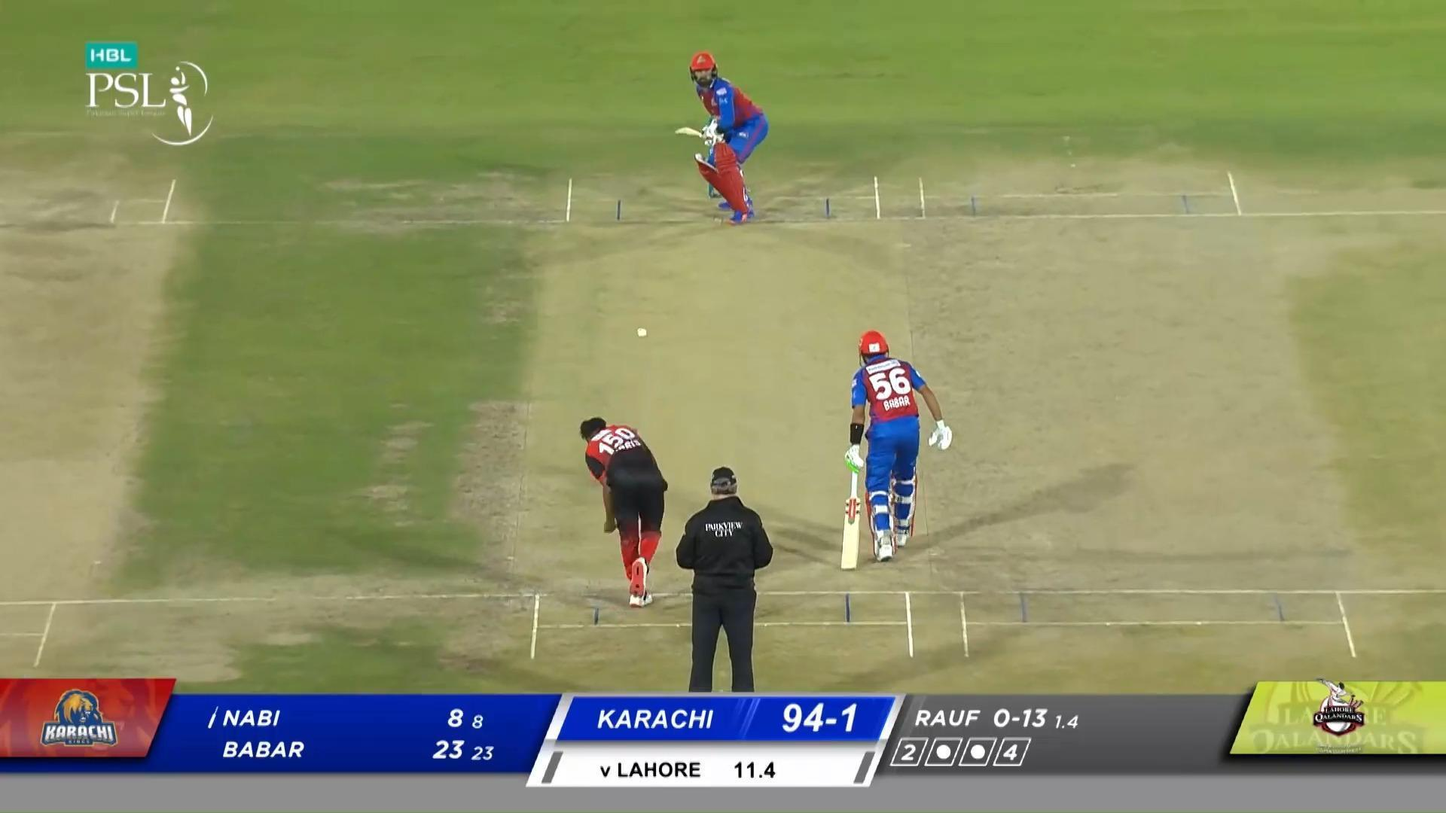BM 1: (674, 51, 769, 224)
BO: (579, 416, 670, 610)
